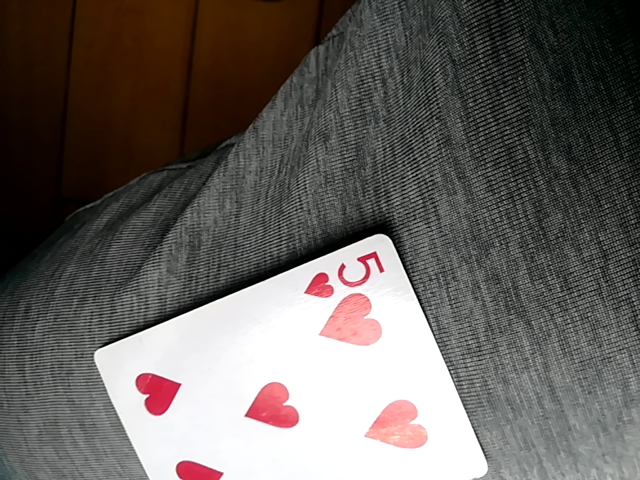hx 5: (90, 231, 483, 479)
